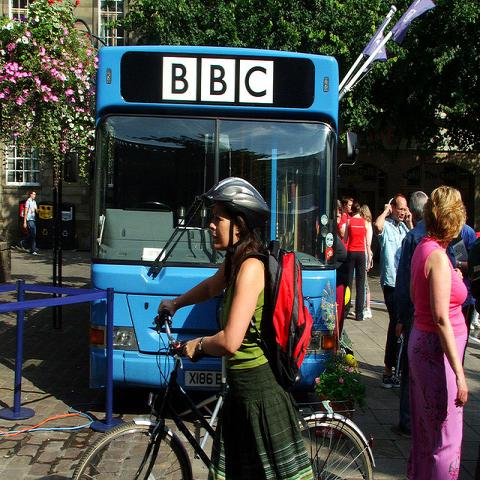bus: (89, 42, 340, 391)
